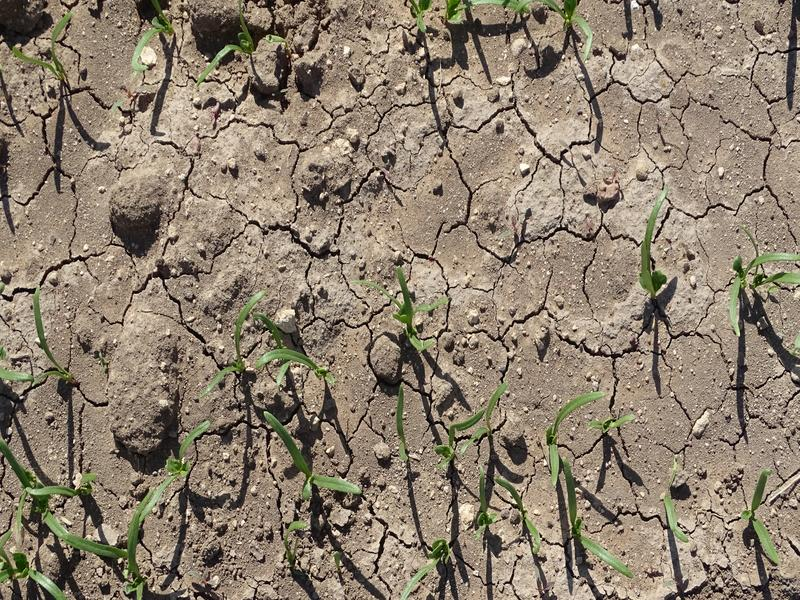Espinaca: (7, 477, 174, 588), (194, 292, 318, 393), (414, 1, 598, 55), (263, 410, 373, 496), (369, 268, 447, 355), (726, 247, 800, 332), (548, 388, 604, 487), (188, 20, 285, 74), (24, 289, 73, 389), (438, 389, 504, 461), (634, 188, 674, 294), (19, 13, 76, 80), (492, 477, 543, 544), (571, 525, 636, 577), (745, 472, 778, 562), (404, 540, 454, 597), (129, 20, 169, 73), (171, 420, 209, 472), (661, 494, 691, 544)
